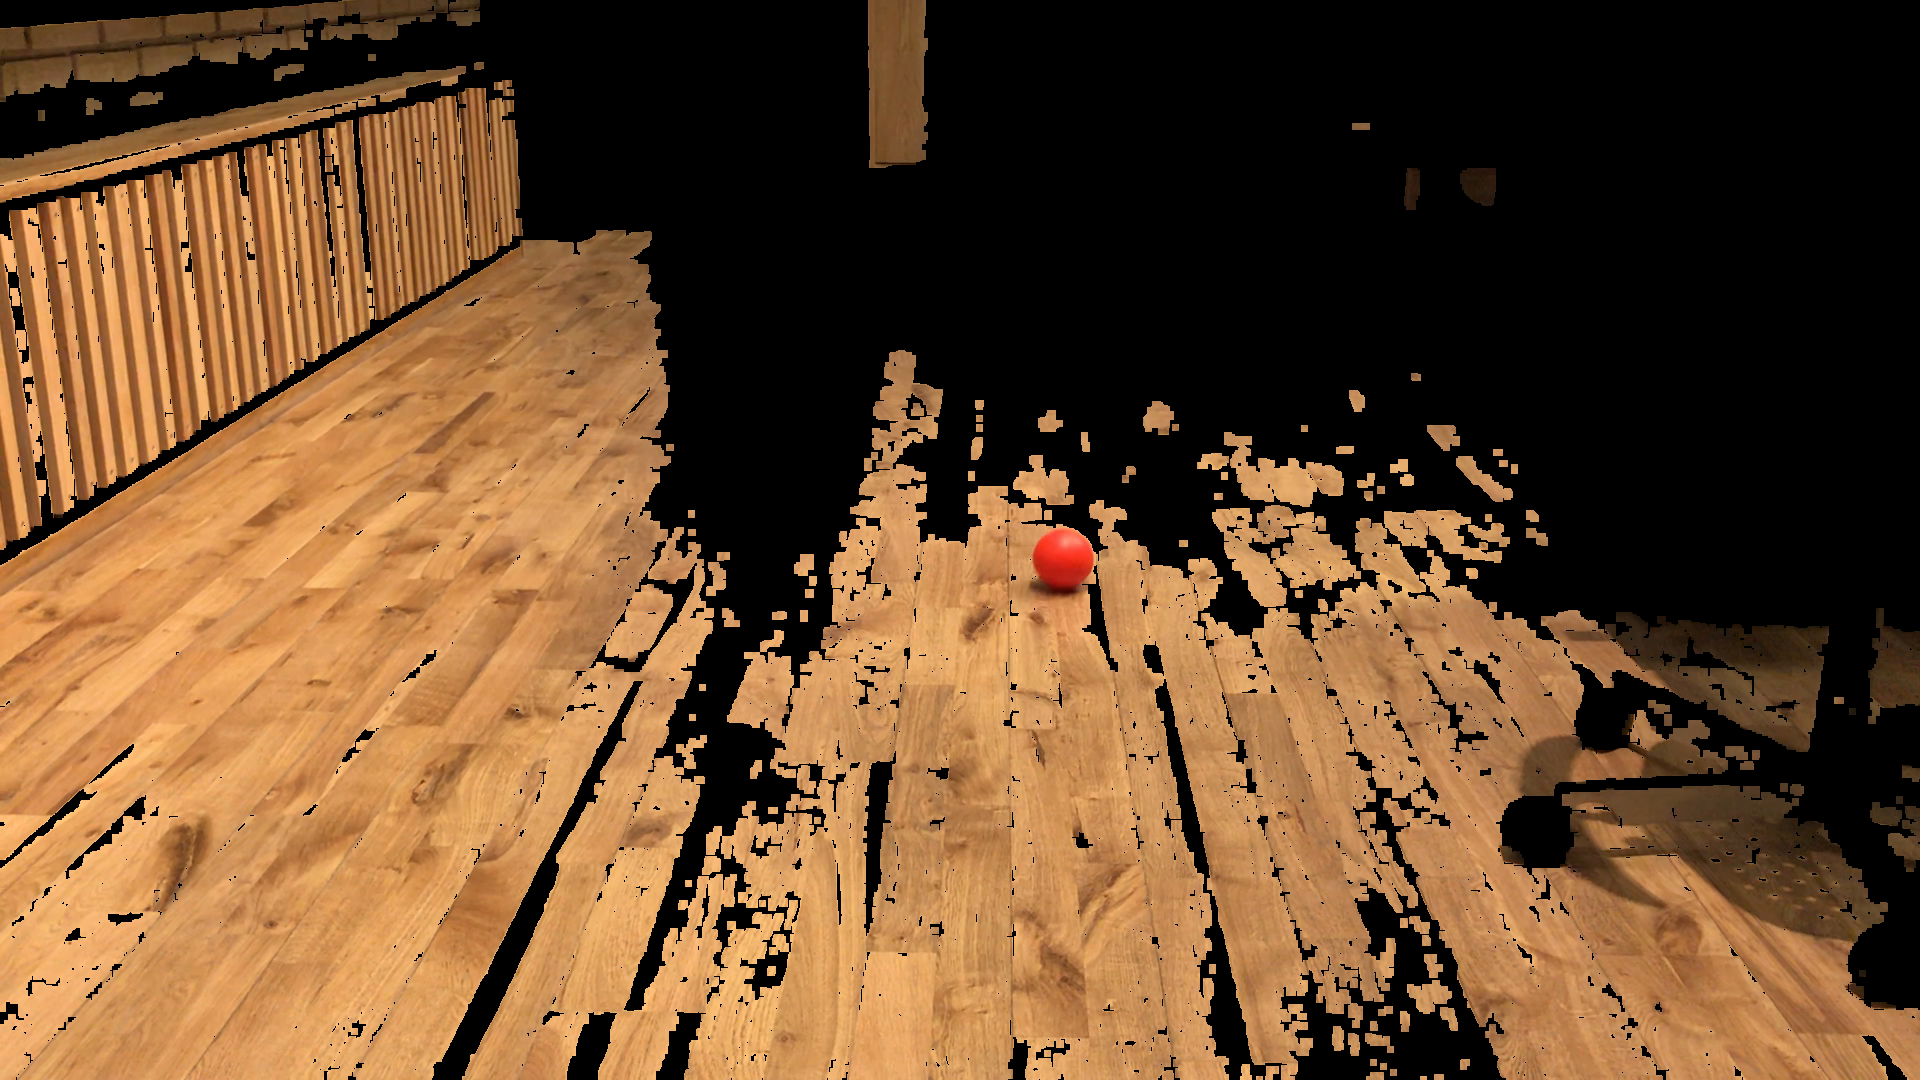Ball: (1034, 530, 1100, 592)
